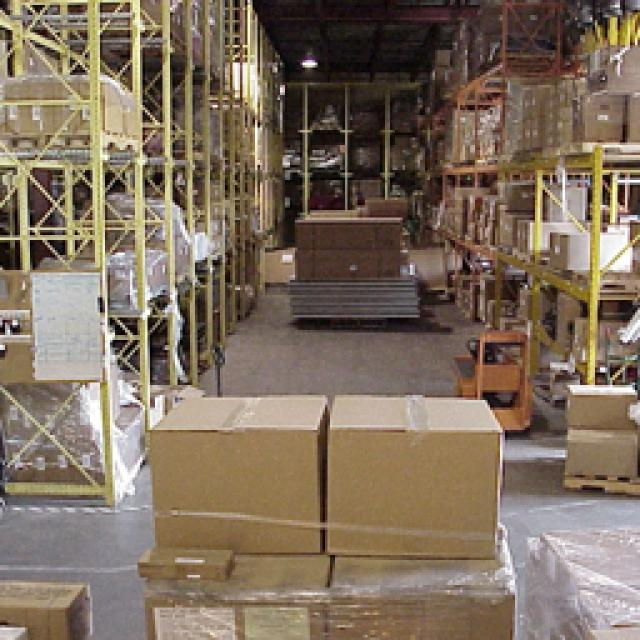box: (138, 397, 325, 550), (324, 398, 495, 557), (2, 76, 140, 142), (567, 415, 640, 481)
